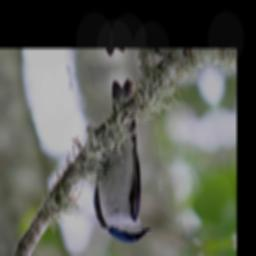Swallow: (74, 75, 161, 252)
